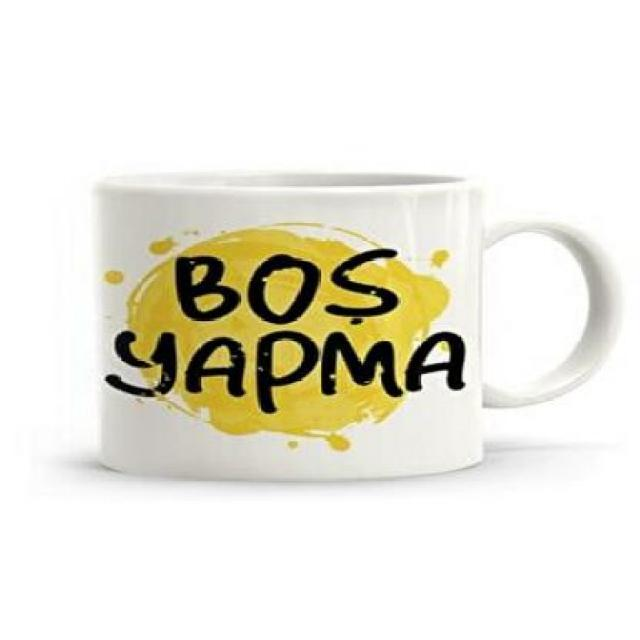taza: (63, 160, 629, 490)
